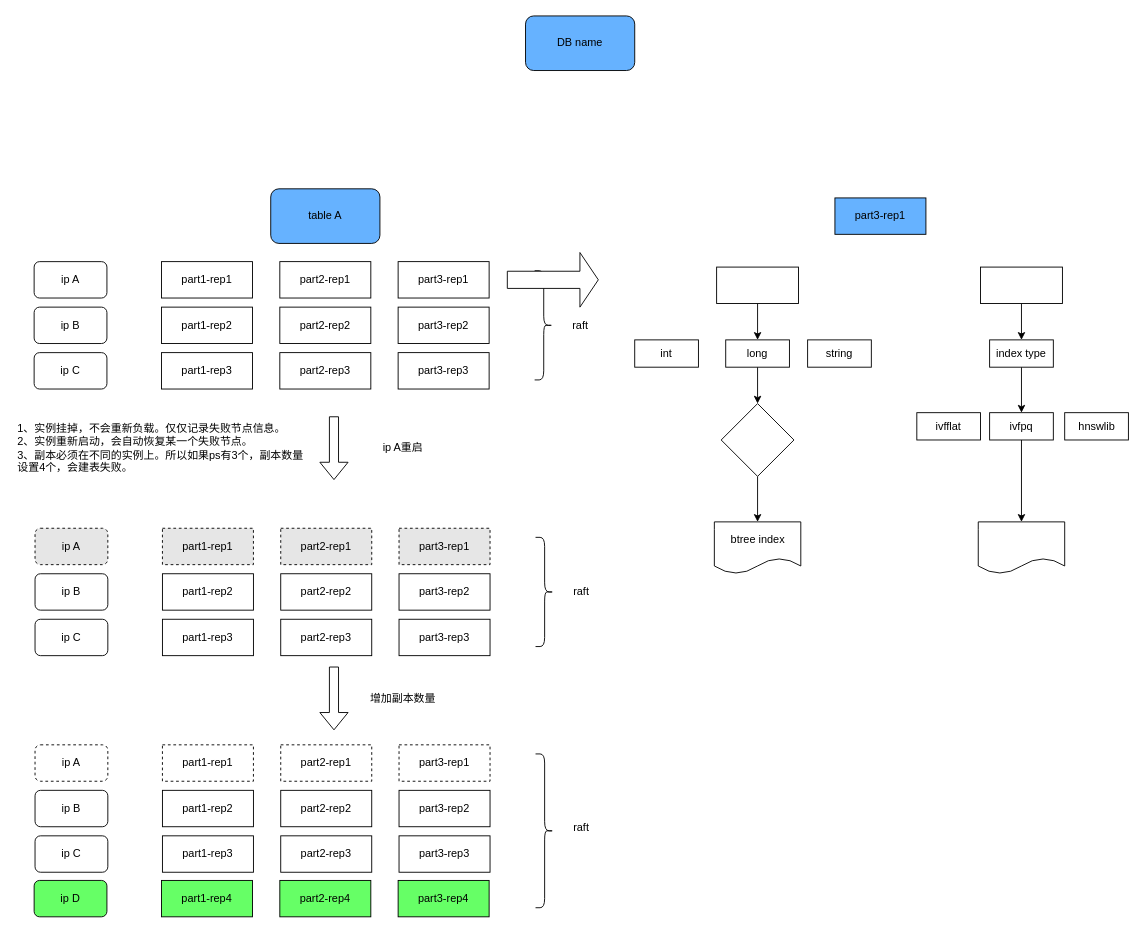
Some shapes in this 1144 by 933 pixel diagram are drawn without their labels. Here are the shapes that lost their labels. From the top down, the box of each, then its label:
(716, 266, 799, 303): normal fields
(980, 266, 1062, 303): vector fields
(720, 403, 794, 476): is index
(977, 521, 1065, 574): vector indexing
